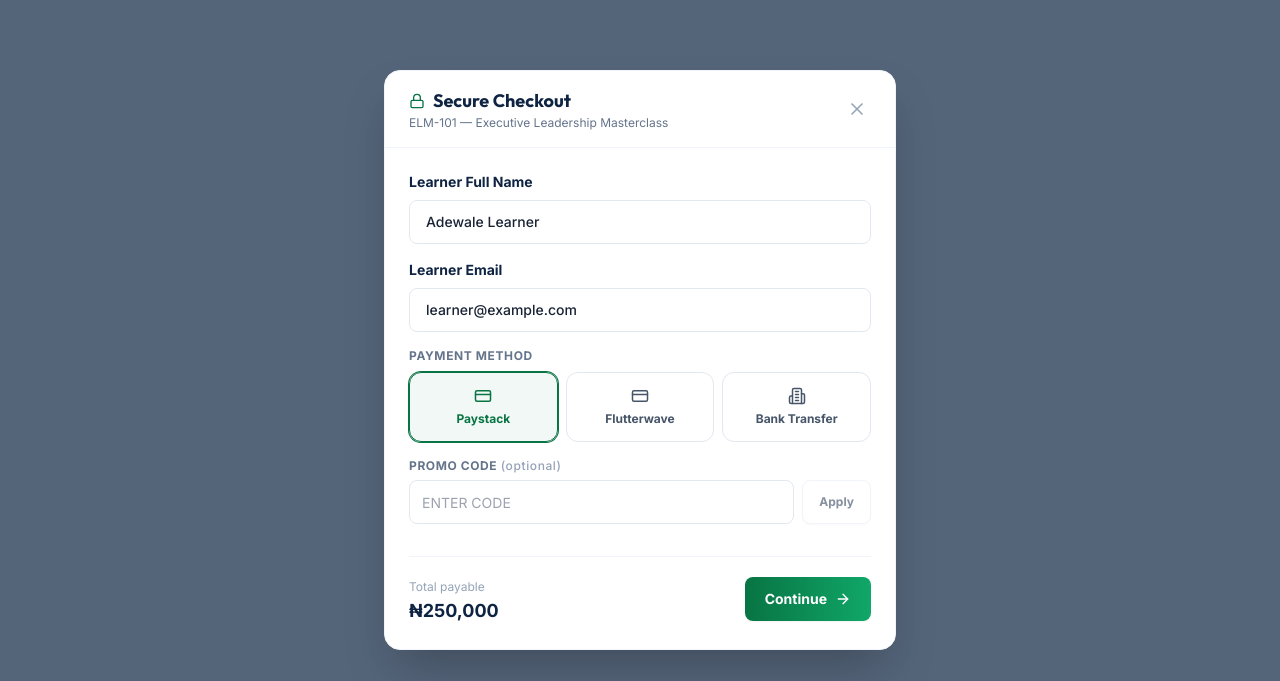
Test: CheckoutModal Component (src/components/CheckoutModal.tsx) › switches to Bank Transfer option and proceeds to bank details step
// Select Bank Transfer option
What coordinates should you click on to do the following:
click the button "Bank Transfer"
I would click on:
 (797, 407)
Its box is [722,372,871,442].
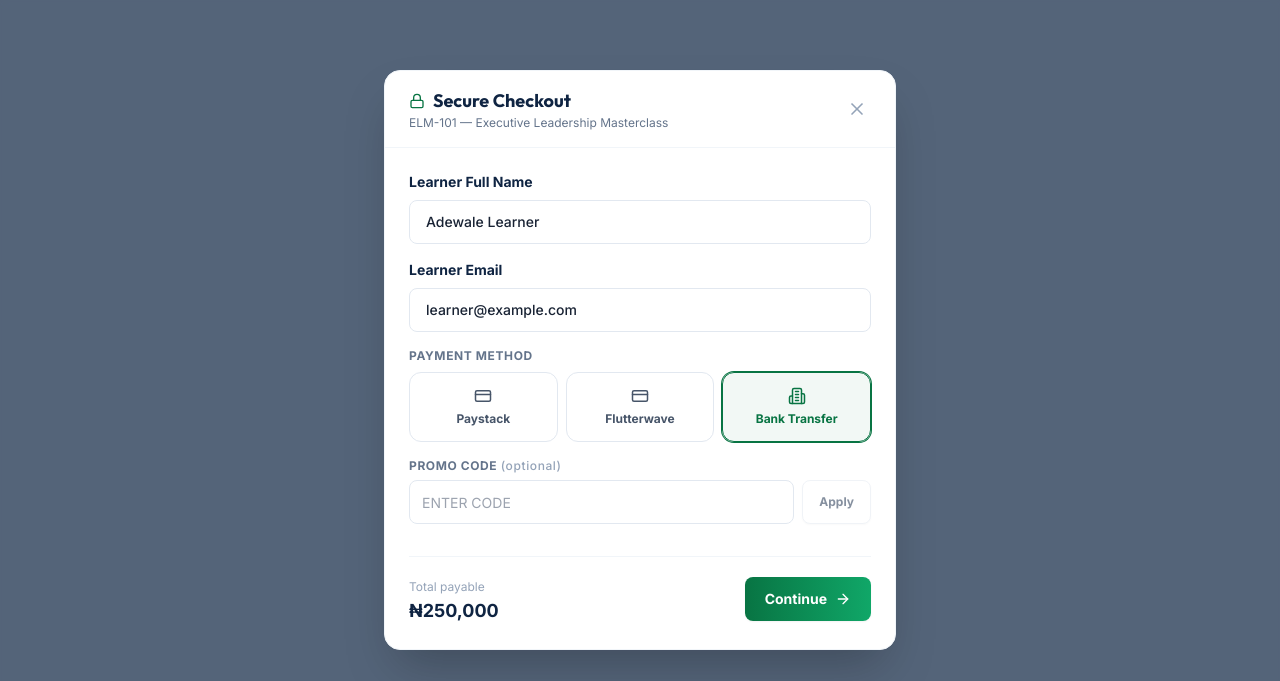
// Click Continue to step 2 (Payment / Proof input)
What coordinates should you click on to do the following:
click the button "Continue"
I would click on:
 (808, 599)
Its box is [745,577,871,621].
(page scrolled)
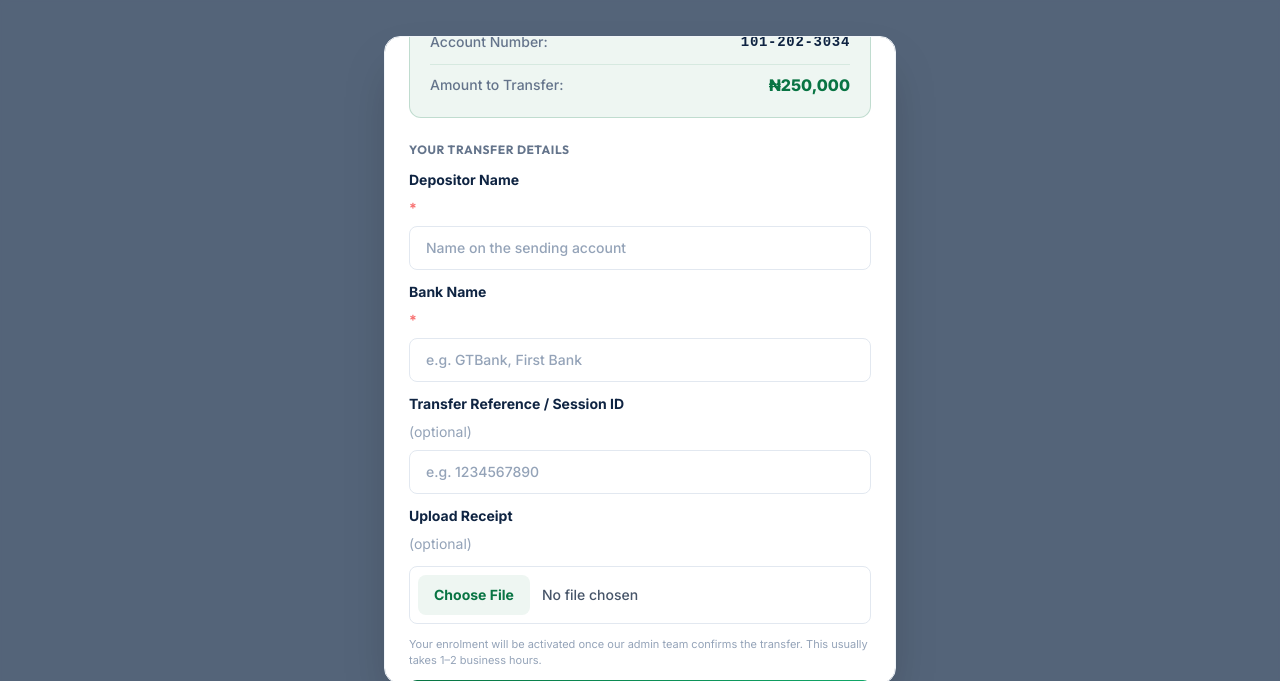
Now the text "101-202-3034" is shown, box [741,36,850,54]
Now the field with placeholder "Name on the sending account" is shown, box [409,226,871,270]
Now the field with placeholder "e.g. GTBank, First Bank" is shown, box [409,338,871,382]
